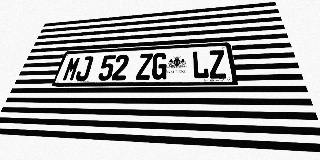2: (111, 54, 130, 80)
5: (97, 55, 116, 81)
G: (151, 52, 167, 80)
J: (74, 56, 94, 81)
L: (192, 51, 209, 79)
M: (61, 57, 82, 81)
Z: (208, 50, 228, 79), (136, 53, 153, 80)
